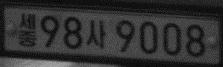0: (138, 20, 158, 55), (162, 21, 181, 56)
8: (63, 15, 83, 50), (185, 23, 205, 57)
9: (39, 13, 59, 48), (115, 19, 136, 52)
사: (86, 18, 106, 49)
세종_V: (17, 11, 36, 48)
